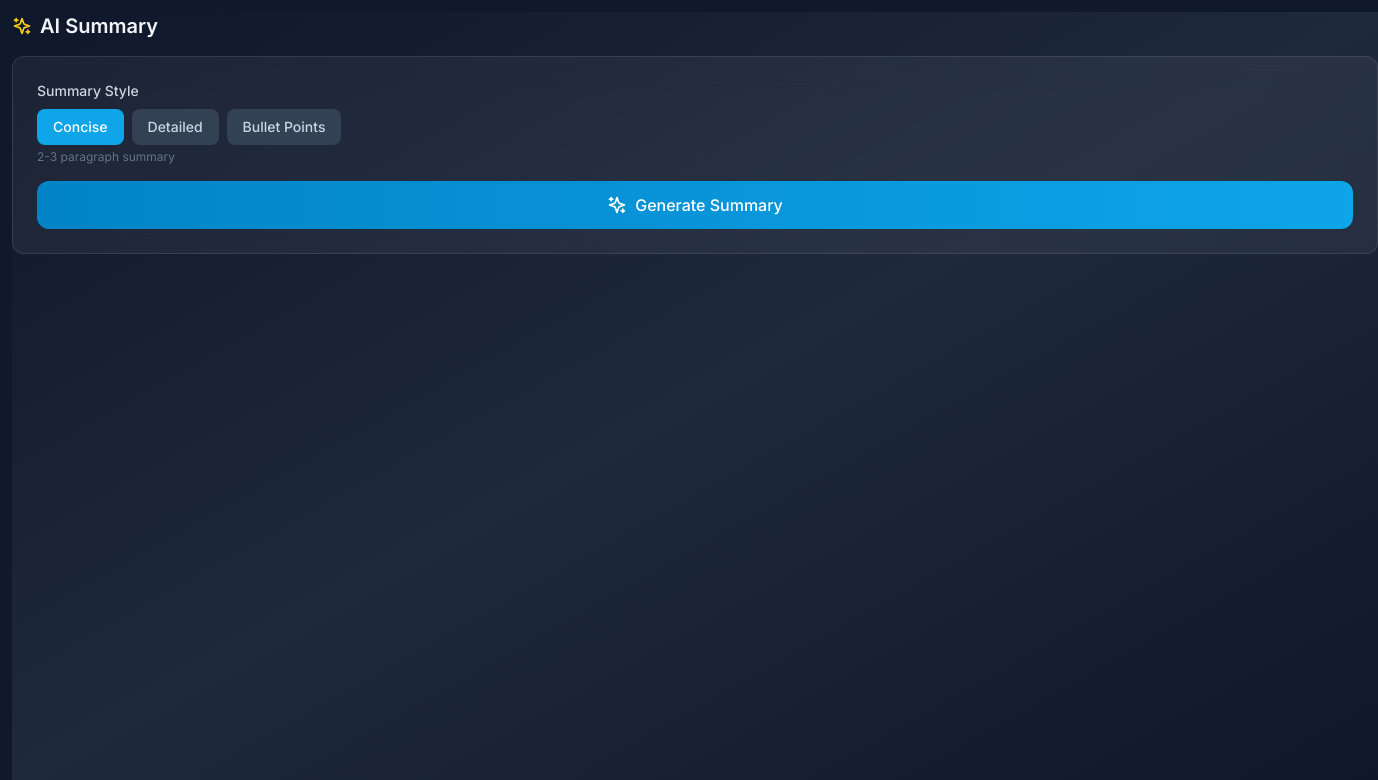
Test case: SummaryPanel Component › should generate summary on button click
Click the button "Generate Summary". click: (695, 205)
box: [37,181,1353,229]
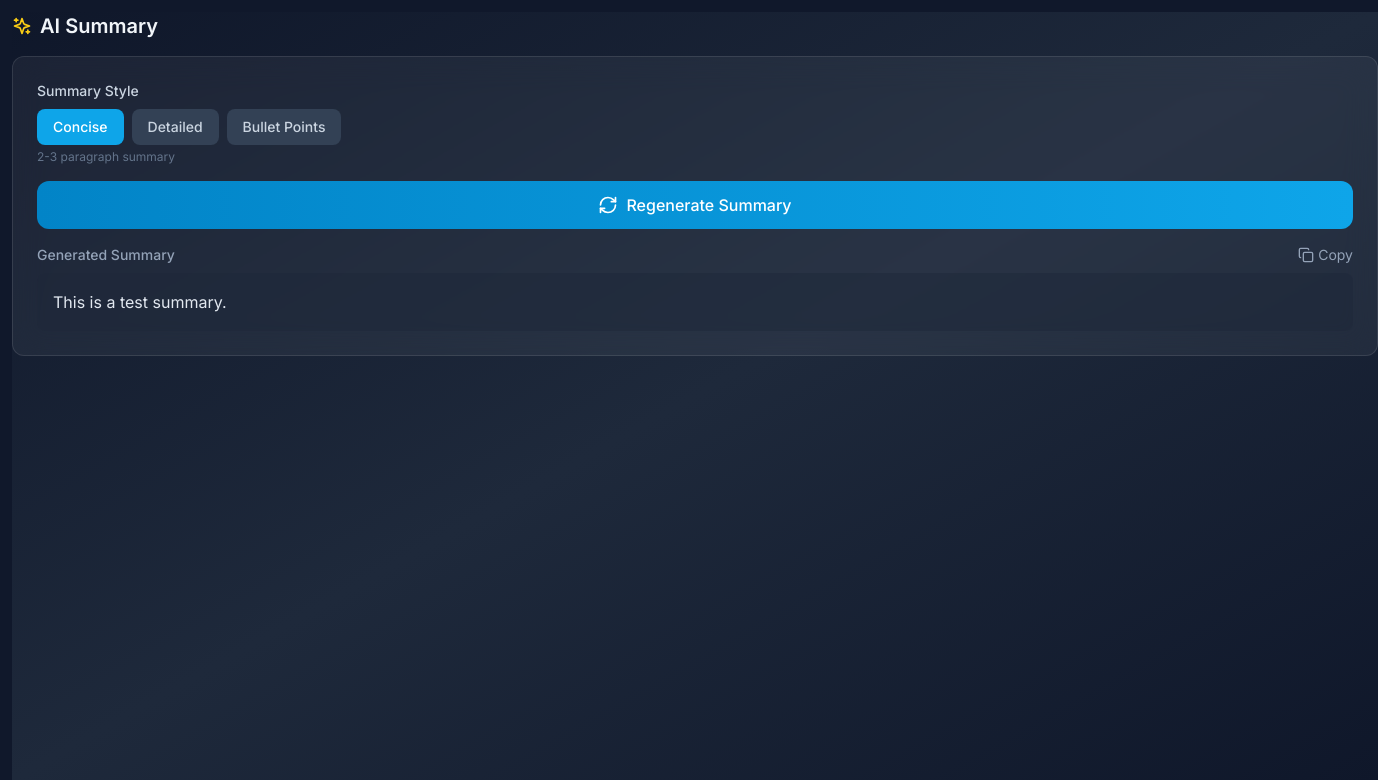
Now the text "This is a test summary." is shown, box [53,292,227,312]
